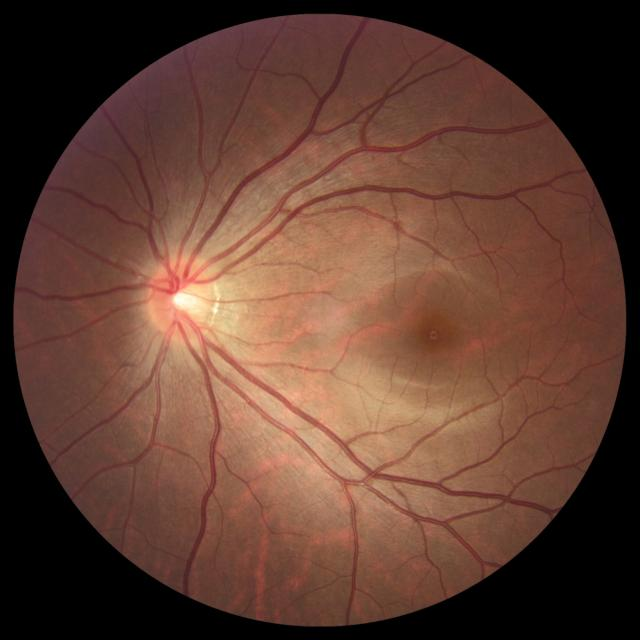OC: (167, 282, 198, 312)
OD: (145, 254, 218, 337)
